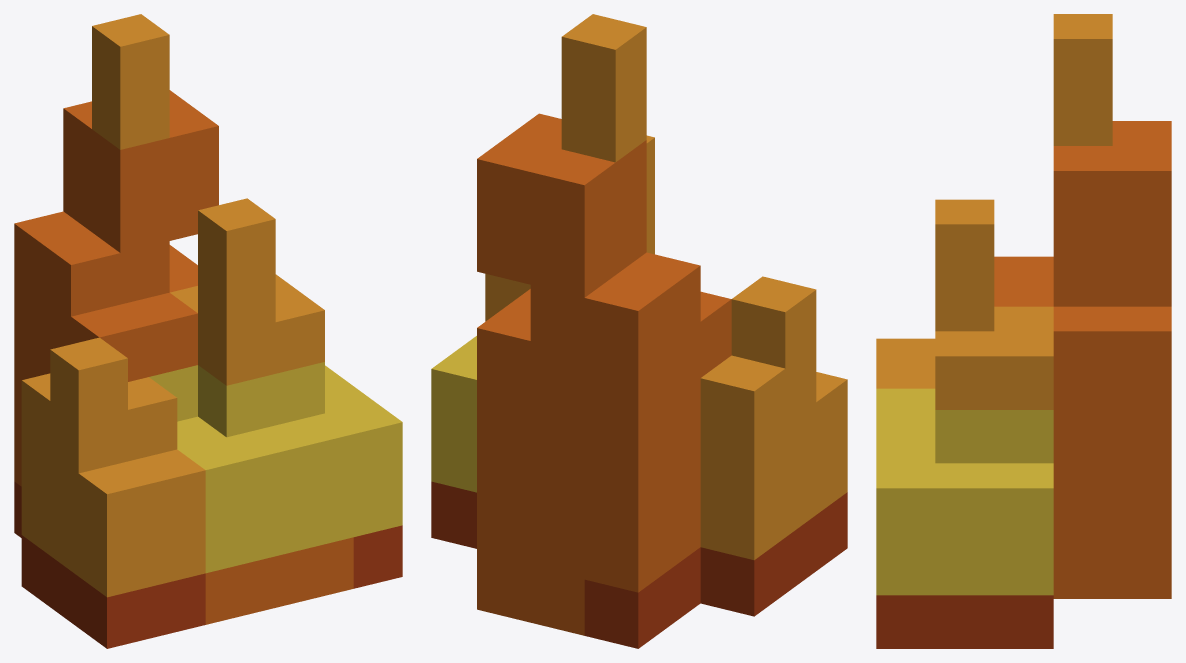
Rendered from flame_03.glb.
3 views of the same model, side by side, from view 1: azimuth 30°, elevation 25°; view 2: azimuth 150°, elevation 25°; view 3: azimuth 270°, elevation 25° (orthographic). The views are drawn at different scales.
Visible parts, largest first — view 1: flame_03; view 2: flame_03; view 3: flame_03.
Part boxes in pixels (bbox=[...]): flame_03: bbox=[14, 14, 402, 648]; flame_03: bbox=[431, 14, 847, 648]; flame_03: bbox=[876, 14, 1171, 648].
Size of the model in its own units: 0.75 by 1.25 by 0.625.
